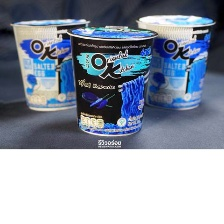paper_cup: (63, 21, 162, 139), (7, 13, 95, 115), (131, 10, 218, 113)
